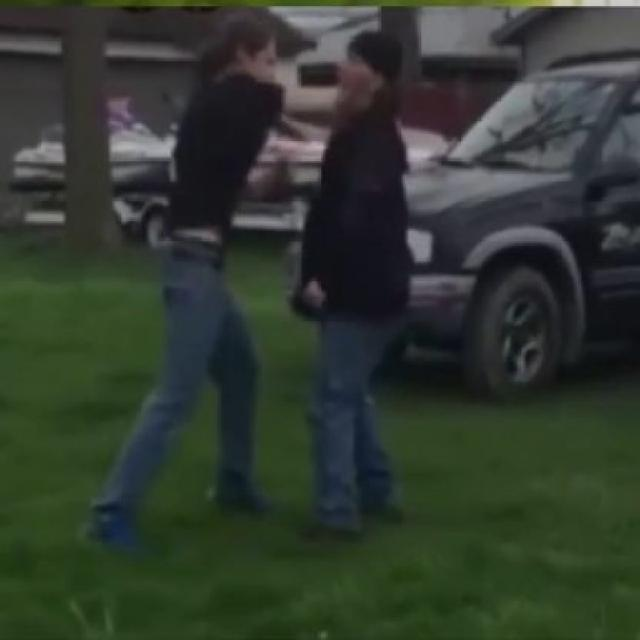fight: (49, 0, 477, 574)
